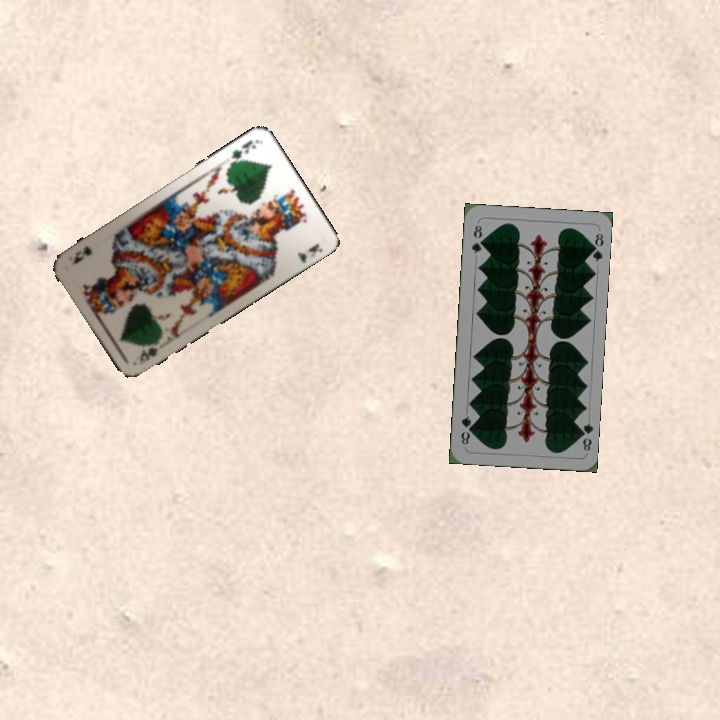G8: (574, 419, 595, 453), (467, 221, 485, 256)
GK: (226, 136, 259, 168), (135, 336, 162, 368)
